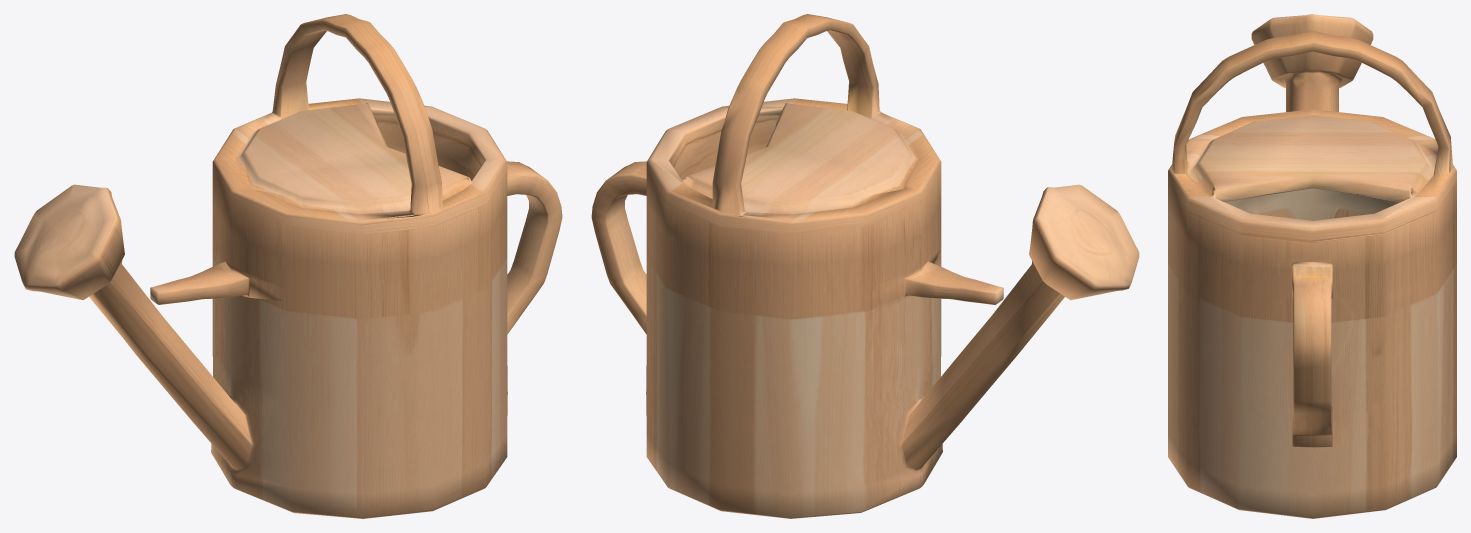
The model's file is Watering_Wood.fbx.
3 renders of one model, left to right at view 1: azimuth 30°, elevation 25°; view 2: azimuth 150°, elevation 25°; view 3: azimuth 270°, elevation 25°, orthographic. The views are drawn at different scales.
Parts seen in each view (by area): view 1: Mesh_0; view 2: Mesh_0; view 3: Mesh_0.
Boxes of the visible parts, x1=… form: Mesh_0: x1=14, y1=14, x2=562, y2=518; Mesh_0: x1=591, y1=14, x2=1139, y2=518; Mesh_0: x1=1168, y1=14, x2=1456, y2=518.
Bounding box in the file's own units: 190 × 148 × 91.98.
Materials: 1 (1 with a texture image).
